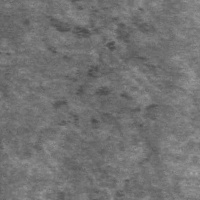rolled-in_scale: (82, 23, 157, 129)
